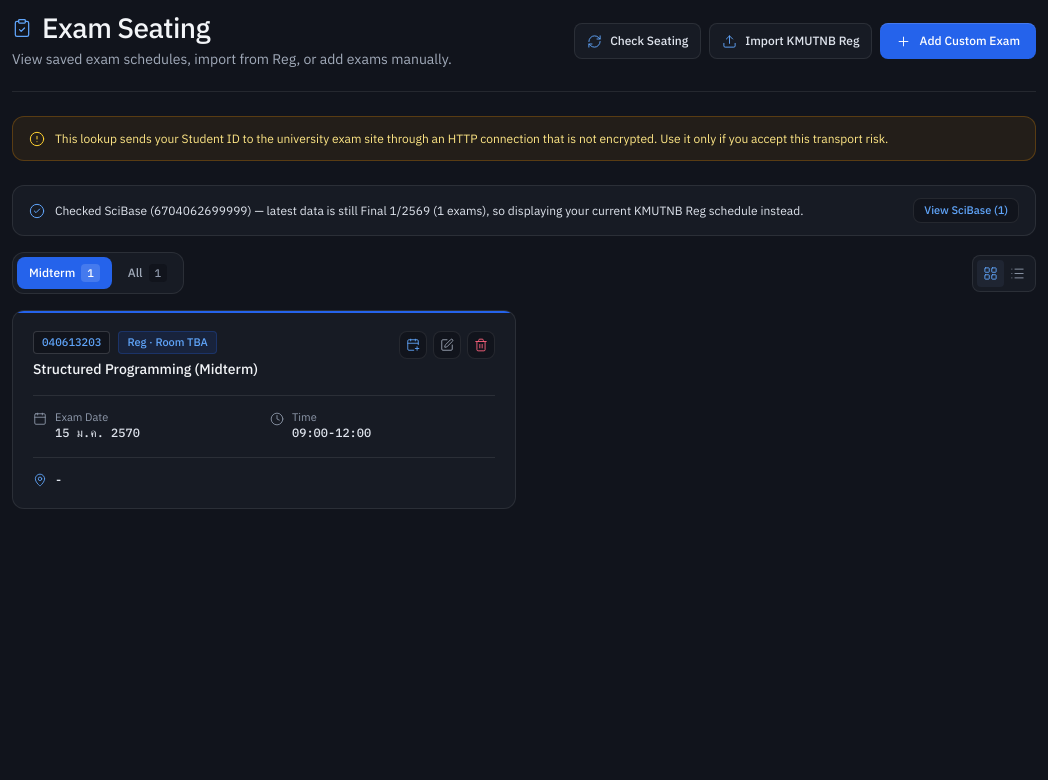
Exam Source Reconciliation (SciBase Primary + Reg Fallback + Midterm/Final Tabs) › prefers explicit profile.studentId from Settings over email digits and lets user inspect stale SciBase results
Expected: the heading "Structured Programming (Midterm)" is shown, 33,360 -> 258,379
Expected: the text "Final 1/2569" is shown, 55,203 -> 803,218
# User can click "View SciBase (1)" to verify/inspect live SciBase data, then toggle back!
Click the button "View SciBase (1)" at [966, 211], box 913,198 -> 1019,223
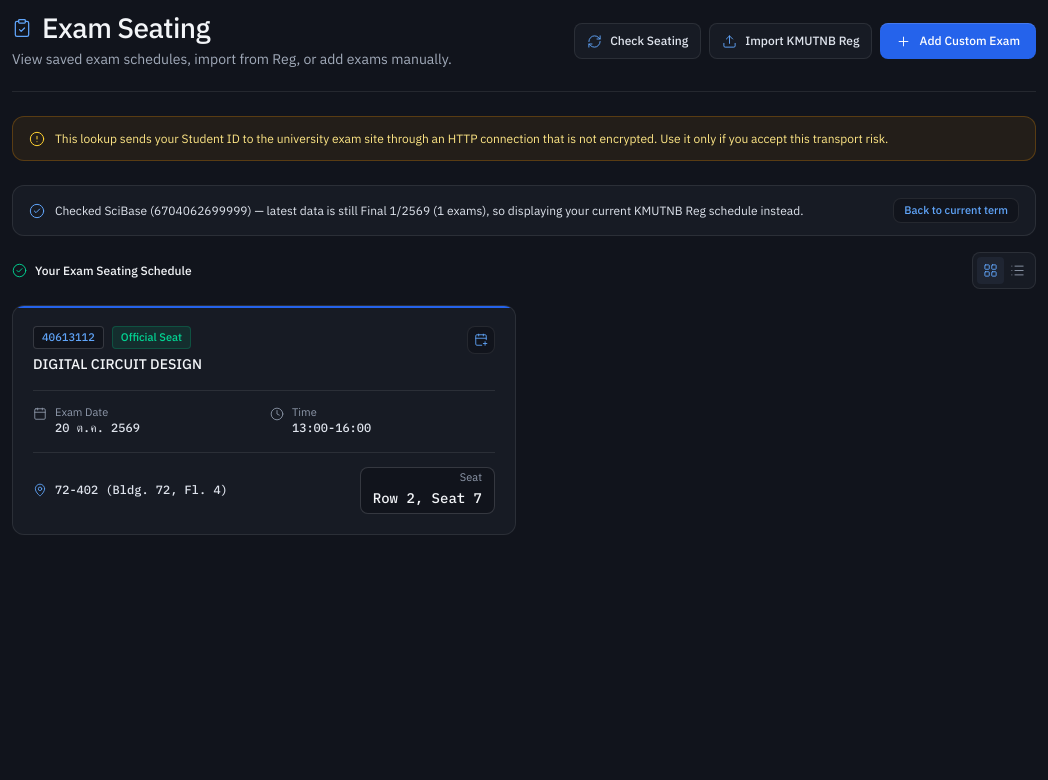
Expected: the heading "DIGITAL CIRCUIT DESIGN" is shown, 33,355 -> 202,374
Expected: the heading "Structured Programming (Midterm)" is gone
Click the button "Back to current term" at [956, 211], box 893,198 -> 1019,223
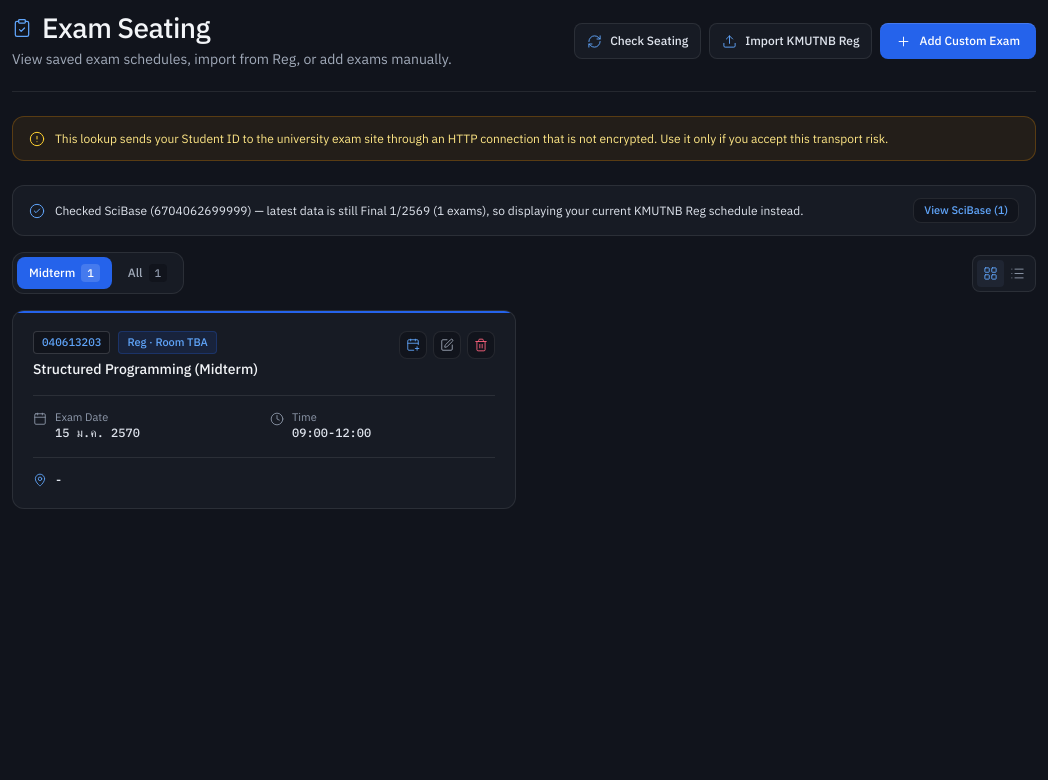
Expected: the heading "Structured Programming (Midterm)" is shown, 33,360 -> 258,379
